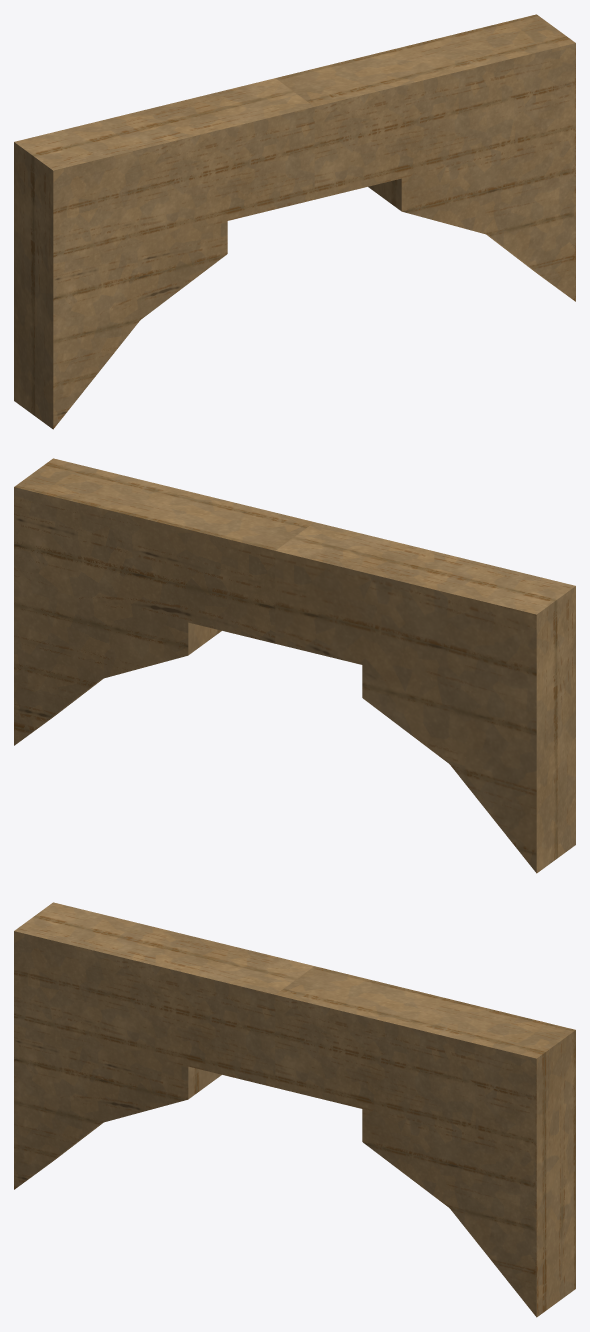
The model's file is wood_hed.fbx.
The picture shows the model from 3 angles, top to bottom: view 1: azimuth 30°, elevation 25°; view 2: azimuth 150°, elevation 25°; view 3: azimuth 330°, elevation 25°; orthographic projection.
Visible parts, largest first — view 1: Box012; view 2: Box012; view 3: Box012.
Boxes of the visible parts, box(x1,y1,x2,y2) form: Box012: box(14, 14, 575, 429); Box012: box(14, 458, 575, 873); Box012: box(14, 902, 575, 1317).
Size of the model in its own units: 573 by 271 by 74.49.
